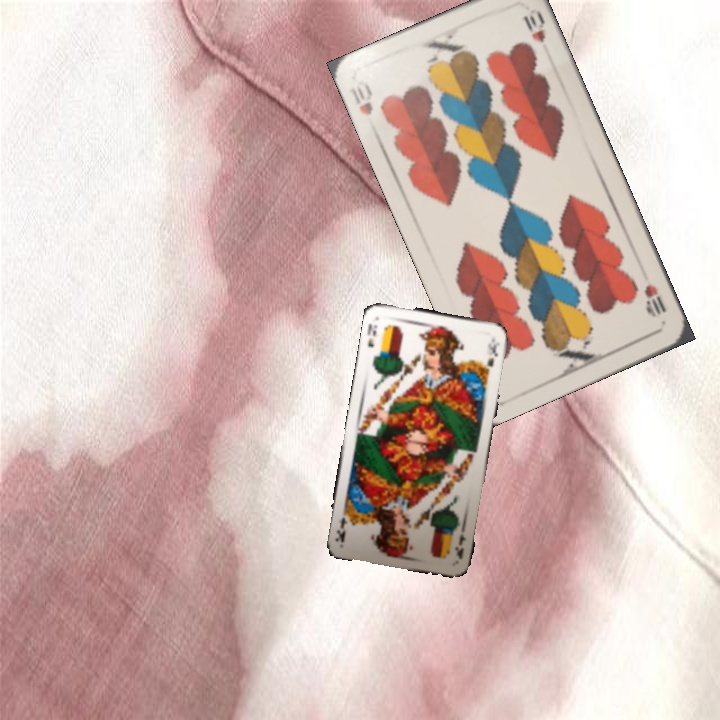EK: (451, 522, 468, 561), (363, 319, 380, 350)
H10: (346, 76, 376, 118), (639, 280, 669, 321)
